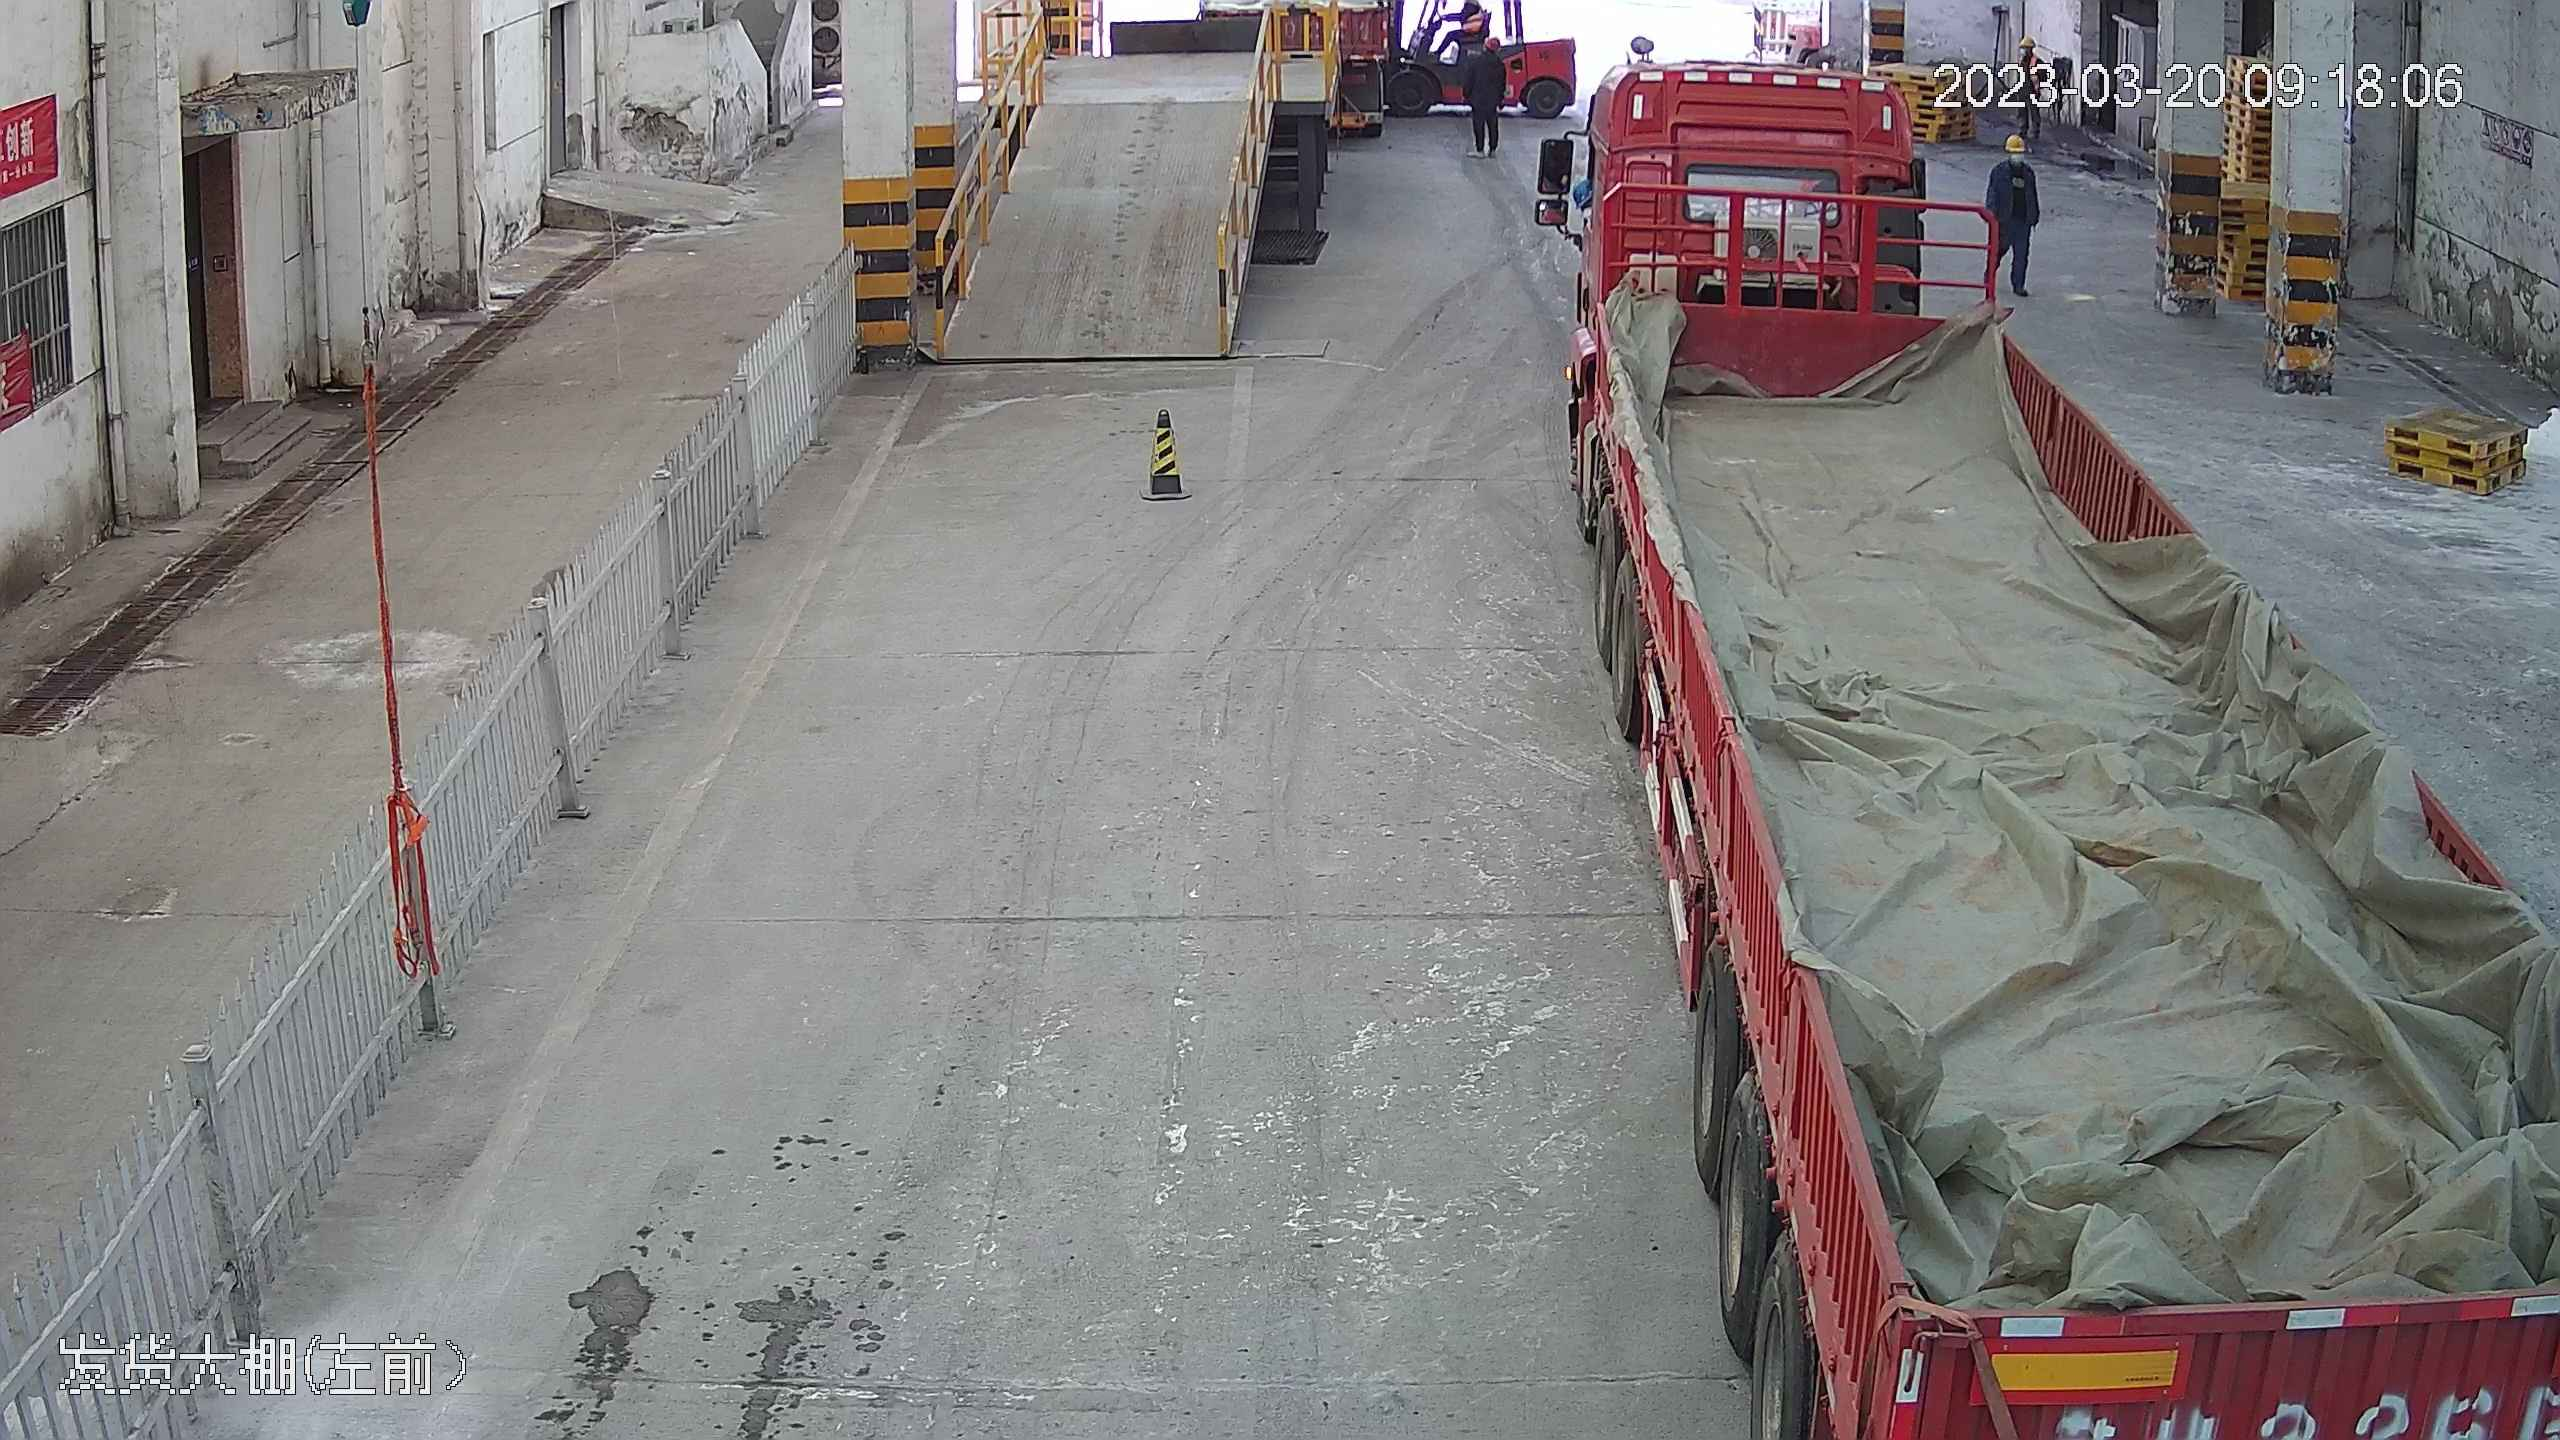head: (1990, 130, 2038, 183), (1468, 34, 1505, 79)
helmet: (2004, 131, 2029, 149), (1484, 36, 1499, 52)
people: (1982, 128, 2047, 303), (1463, 33, 1506, 158)
truck: (1550, 30, 2557, 1440)
